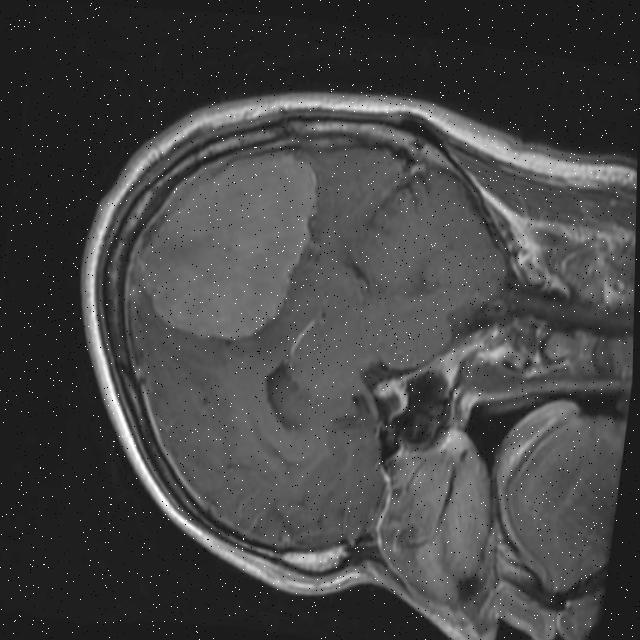Meningioma: (130, 130, 324, 356)
